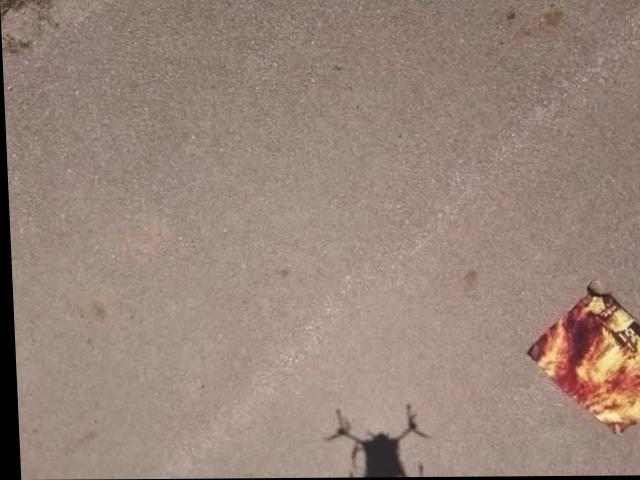fire-poster: (519, 282, 640, 439)
